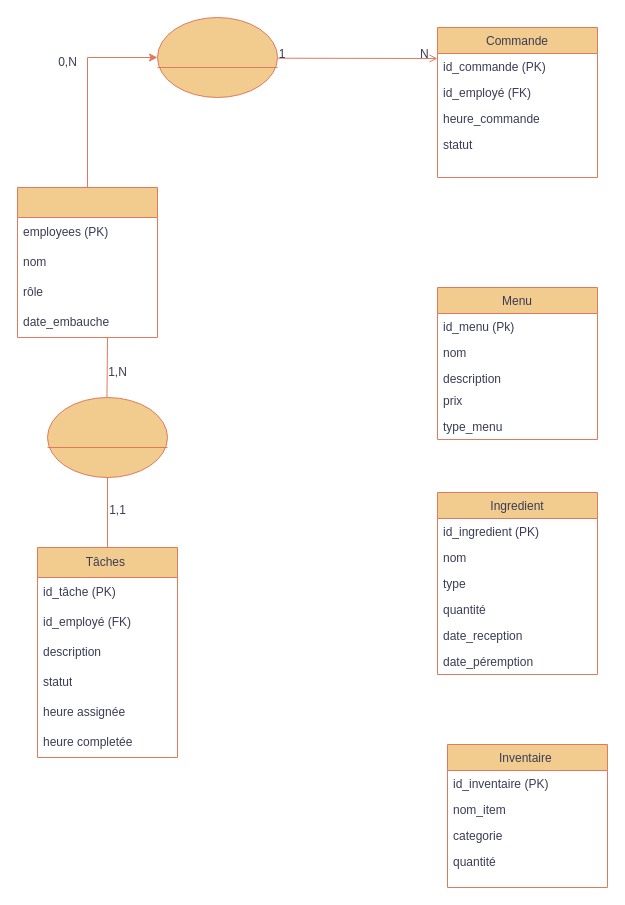
This 625x905 diagram has some shape labels left out. Here are the shapes that lost their labels. From the top down, the box of each, then its label:
(156, 16, 278, 98): Prend
(16, 186, 158, 338): Employé
(46, 396, 168, 478): Effectué
